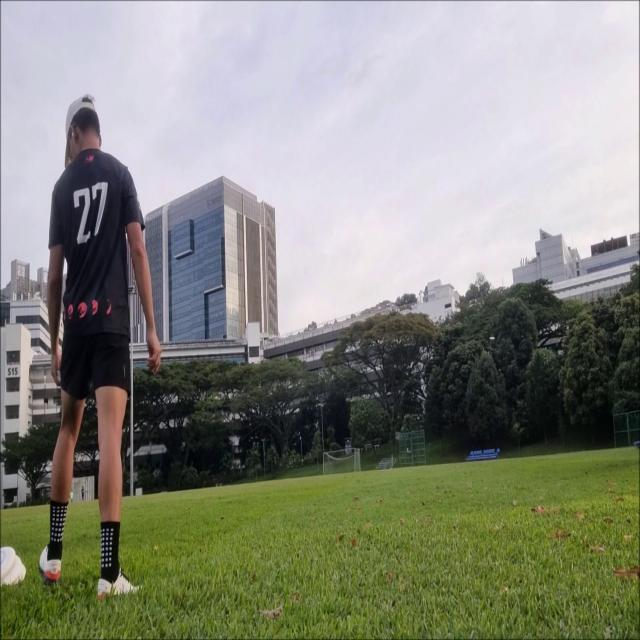disc: (489, 336, 495, 340)
